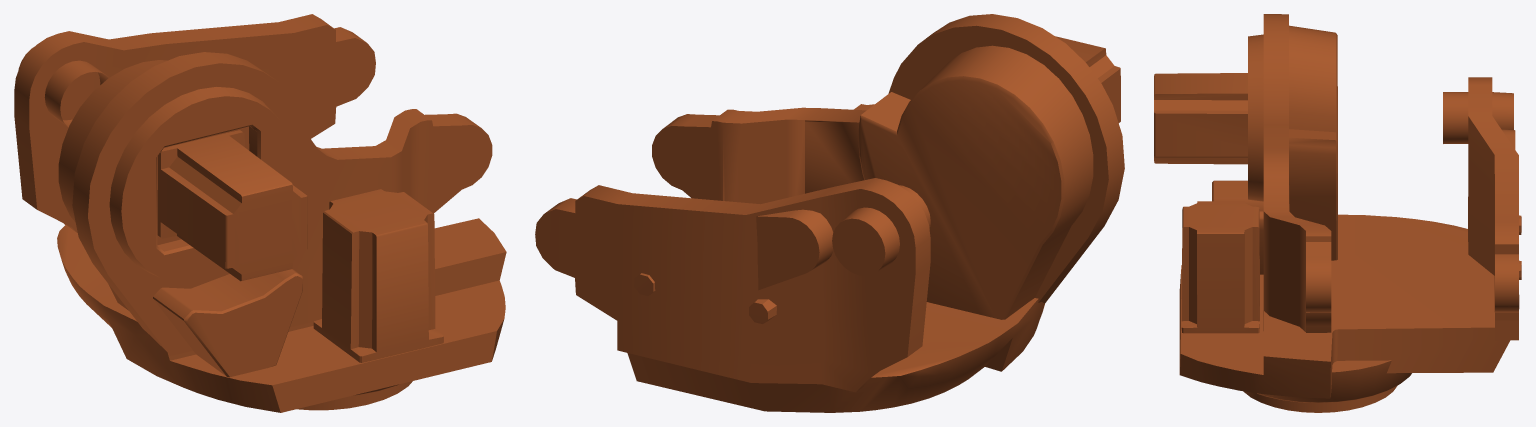
Rendered from RobotArm_Hips.glb.
3 renders of one model, left to right at view 1: azimuth 30°, elevation 25°; view 2: azimuth 150°, elevation 25°; view 3: azimuth 270°, elevation 25°, orthographic. The views are drawn at different scales.
Parts seen in each view (by area): view 1: RobotArmHips; view 2: RobotArmHips; view 3: RobotArmHips.
Part boxes in pixels (x1=…): RobotArmHips: x1=14, y1=14, x2=506, y2=412; RobotArmHips: x1=535, y1=14, x2=1124, y2=412; RobotArmHips: x1=1154, y1=14, x2=1521, y2=412.
Size of the model in its own units: 0.907 by 0.7312 by 0.8257.
